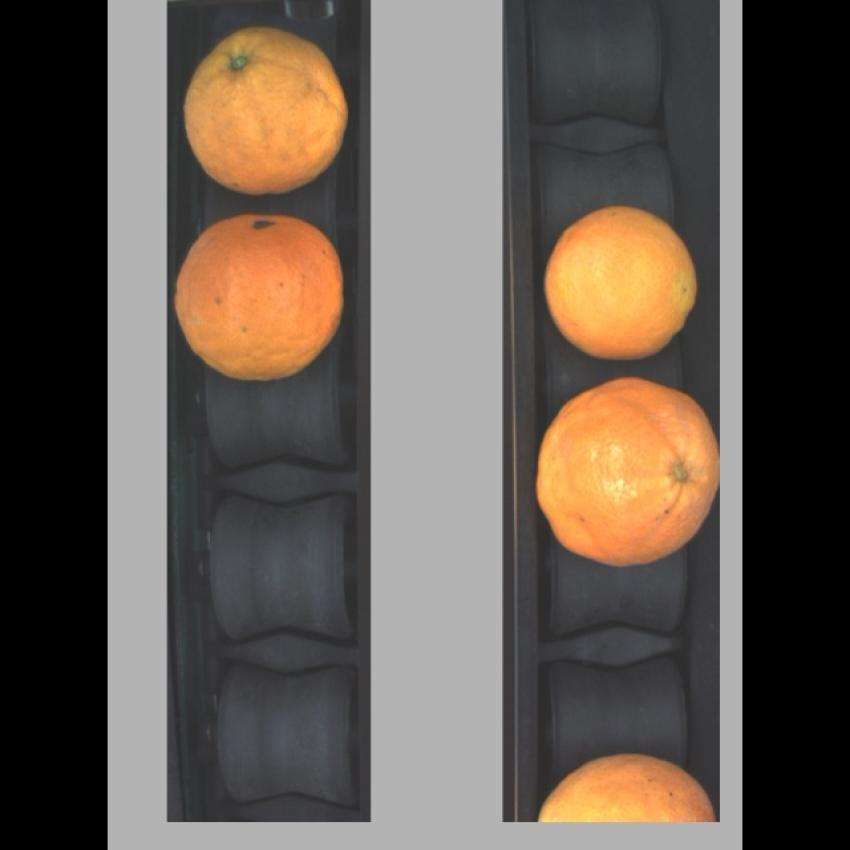Buen estado: (530, 200, 709, 364)
Mal estado: (528, 372, 723, 572), (172, 208, 350, 392), (181, 21, 354, 202), (532, 745, 718, 825)
